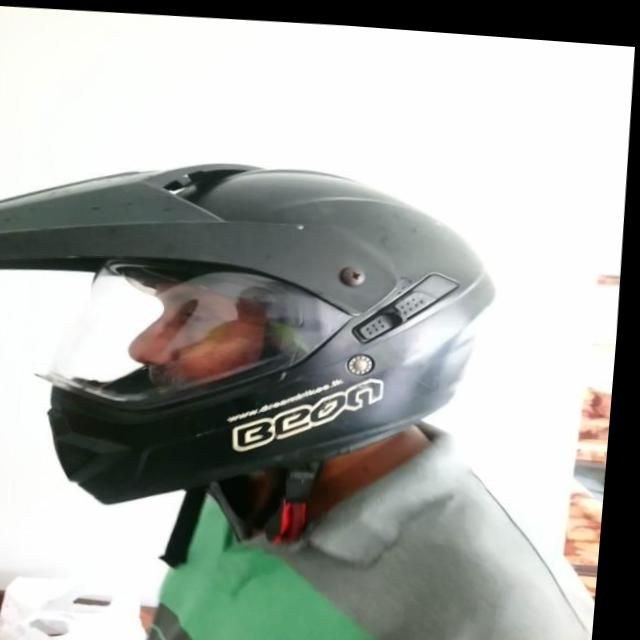helmet: (0, 142, 509, 588)
